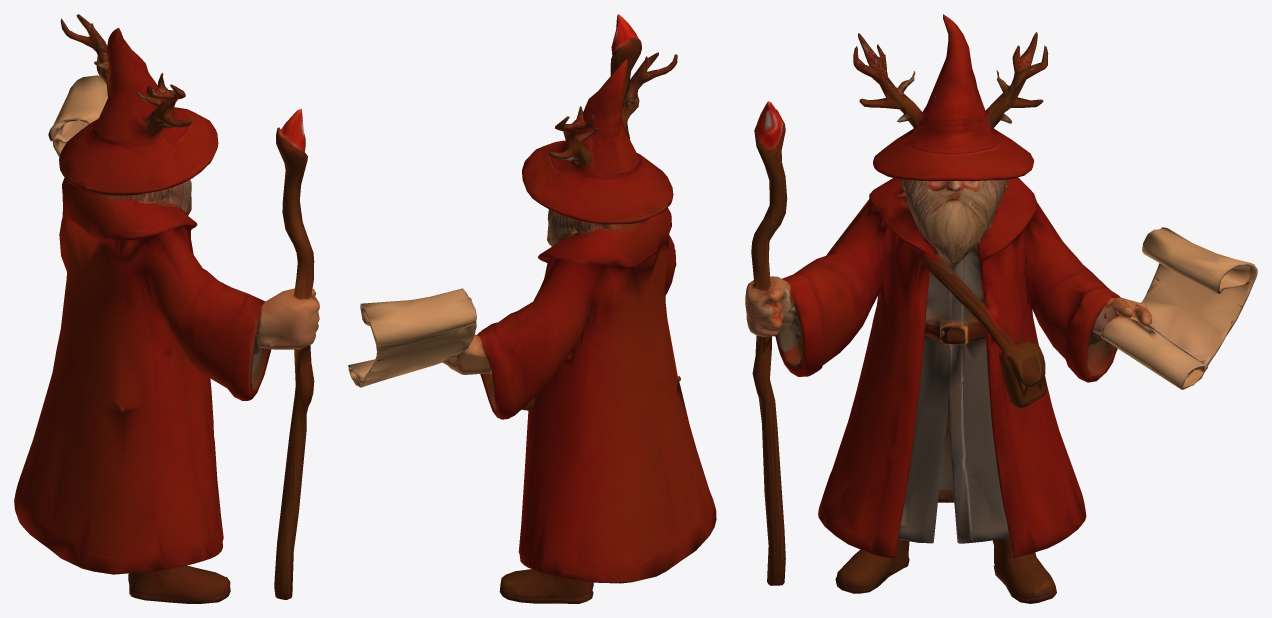
3 renders of one model, left to right at view 1: azimuth 30°, elevation 25°; view 2: azimuth 150°, elevation 25°; view 3: azimuth 270°, elevation 25°, orthographic. The views are drawn at different scales.
Visible parts, largest first — view 1: tripo_node_21a91acd-5138-415e-876d-9119300c4f23; view 2: tripo_node_21a91acd-5138-415e-876d-9119300c4f23; view 3: tripo_node_21a91acd-5138-415e-876d-9119300c4f23.
Boxes of the visible parts, x1,y1,x2,y2 form: tripo_node_21a91acd-5138-415e-876d-9119300c4f23: [14, 14, 319, 603]; tripo_node_21a91acd-5138-415e-876d-9119300c4f23: [348, 14, 716, 603]; tripo_node_21a91acd-5138-415e-876d-9119300c4f23: [745, 14, 1257, 603].
Size of the model in its own units: 0.4573 by 0.9996 by 0.8461.
1 material, 1 textured.
